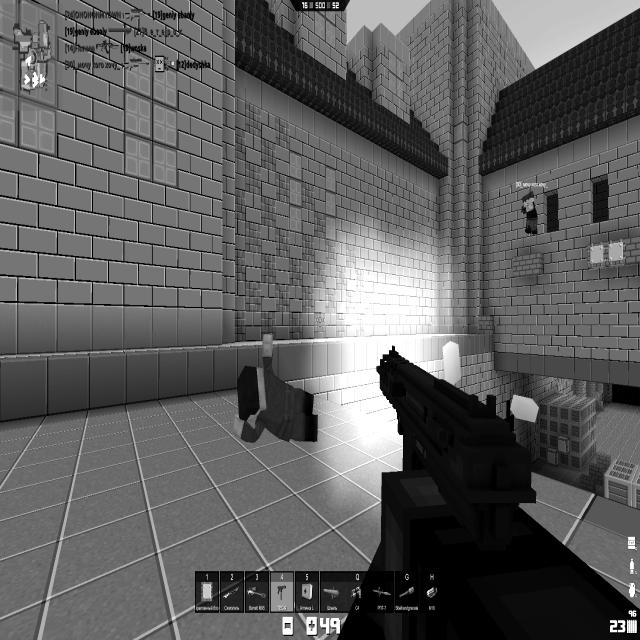Head: (238, 368, 266, 413), (523, 192, 533, 208)
Player: (231, 332, 316, 443), (520, 188, 538, 235)
